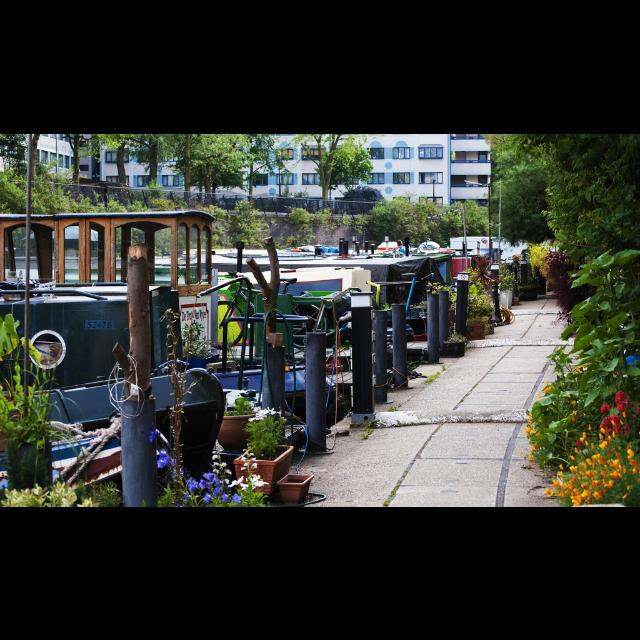Flower: (537, 408, 639, 506), (156, 428, 244, 506), (623, 352, 637, 368)
